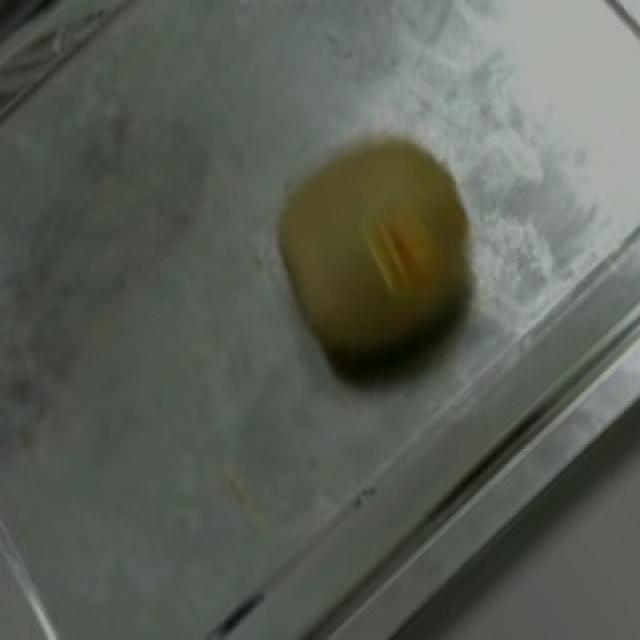Fruit: (234, 104, 522, 419)
